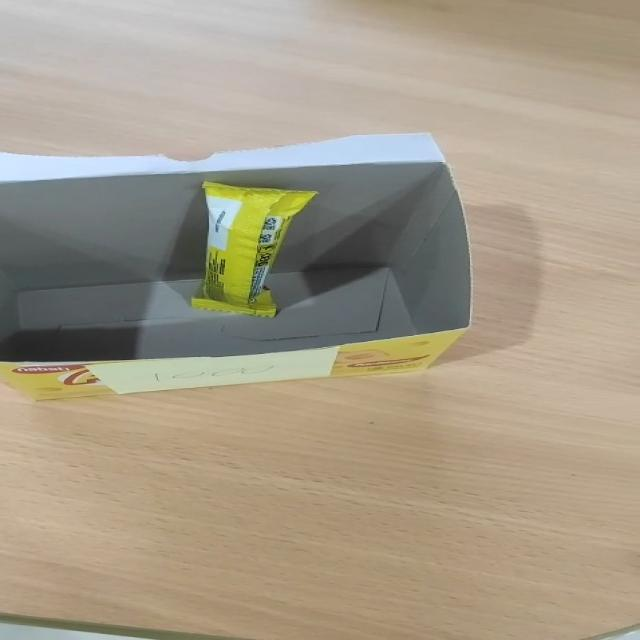Ahh: (190, 181, 319, 318)
